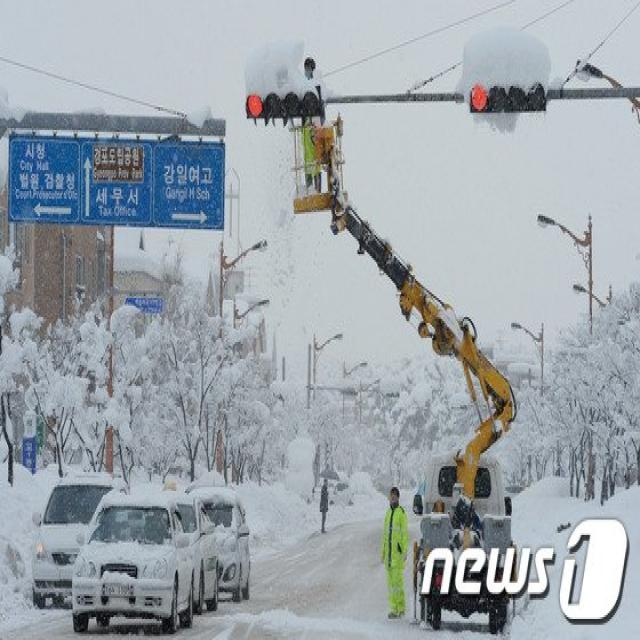Red Light: (244, 85, 266, 126), (469, 80, 490, 116)
